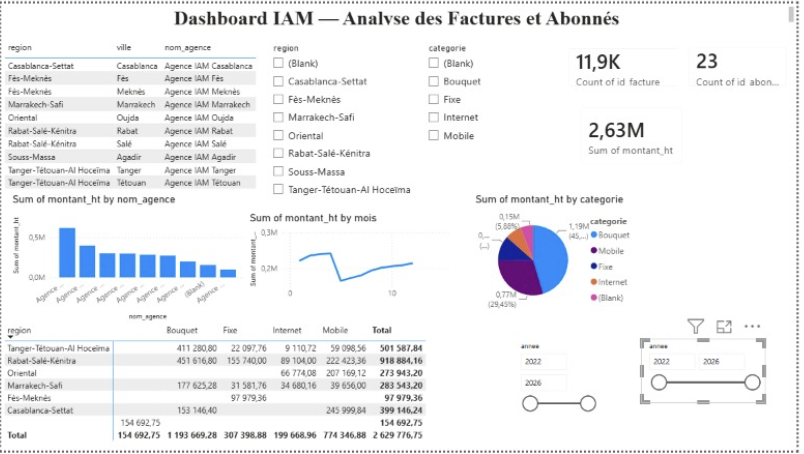

The page's visual inventory and layout, read from the dashboard file:
{"tool":"powerbi","page":{"name":"Page 1","canvas":[1280,720],"ordinal":0},"visuals":[{"type":"actionButton","box":[0,0,100,40],"z":1000},{"type":"clusteredColumnChart","fields":{"Category":["iam_dw dim_agence.nom_agence"],"Y":["Sum(iam_dw fait_facture.montant_ht)"]},"box":[12.5,305,382.5,210],"z":2000},{"type":"lineChart","fields":{"Y":["Sum(iam_dw fait_facture.montant_ht)"],"Category":["iam_dw dim_date.mois"]},"box":[395,335,330,150],"z":2004},{"type":"pieChart","fields":{"Category":["iam_dw dim_offre.categorie"],"Y":["Sum(iam_dw fait_facture.montant_ht)"]},"box":[757.5,305,272.5,197.5],"z":2005},{"type":"pivotTable","fields":{"Rows":["iam_dw dim_agence.region"],"Columns":["iam_dw dim_offre.categorie"],"Values":["Sum(iam_dw fait_facture.montant_ht)"]},"box":[11.7,510,738.3,210],"z":2006},{"type":"slicer","fields":{"Values":["iam_dw dim_date.annee"]},"box":[813.3,540,141.7,150],"z":2007},{"type":"slicer","fields":{"Values":["iam_dw dim_agence.region"]},"box":[425,57.5,250,267.5],"z":2008},{"type":"slicer","fields":{"Values":["iam_dw dim_offre.categorie"]},"box":[675,57.5,150,182.5],"z":2009},{"type":"tableEx","fields":{"Values":["iam_dw dim_agence.region Hierarchy.region","iam_dw dim_agence.region Hierarchy.ville","iam_dw dim_agence.region Hierarchy.nom_agence"]},"box":[0,55,425,250],"z":2010},{"type":"cardVisual","fields":{"Data":["Sum(iam_dw fait_facture.montant_ht)"]},"box":[855,150,198.3,125],"z":2011},{"type":"cardVisual","fields":{"Data":["CountNonNull(iam_dw fait_facture.id_facture)"]},"box":[843.3,55,223.3,95],"z":2012},{"type":"cardVisual","fields":{"Data":["Count(iam_dw fait_facture.id_abonne)"]},"box":[1066.7,58.3,198.3,105],"z":2013},{"type":"textbox","box":[0,0,1280,40],"z":2014}]}

Visuals, with their boxes in screenshot pixels (x1, y1, x2, y2), scaled from the page's 1280x720 canvas onto the 804x454 screenshot:
actionButton: [0, 0, 63, 25]
clusteredColumnChart - iam_dw dim_agence.nom_agence x Sum(iam_dw fait_facture.montant_ht): [8, 192, 248, 325]
lineChart - Sum(iam_dw fait_facture.montant_ht) x iam_dw dim_date.mois: [248, 211, 455, 306]
pieChart - iam_dw dim_offre.categorie x Sum(iam_dw fait_facture.montant_ht): [476, 192, 647, 317]
pivotTable - iam_dw dim_agence.region x iam_dw dim_offre.categorie: [7, 322, 471, 453]
slicer - iam_dw dim_date.annee: [511, 340, 600, 435]
slicer - iam_dw dim_agence.region: [267, 36, 424, 205]
slicer - iam_dw dim_offre.categorie: [424, 36, 518, 151]
tableEx - iam_dw dim_agence.region Hierarchy.region x iam_dw dim_agence.region Hierarchy.ville: [0, 35, 267, 192]
cardVisual - Sum(iam_dw fait_facture.montant_ht): [537, 95, 662, 173]
cardVisual - CountNonNull(iam_dw fait_facture.id_facture): [530, 35, 670, 95]
cardVisual - Count(iam_dw fait_facture.id_abonne): [670, 37, 795, 103]
textbox: [0, 0, 803, 25]
